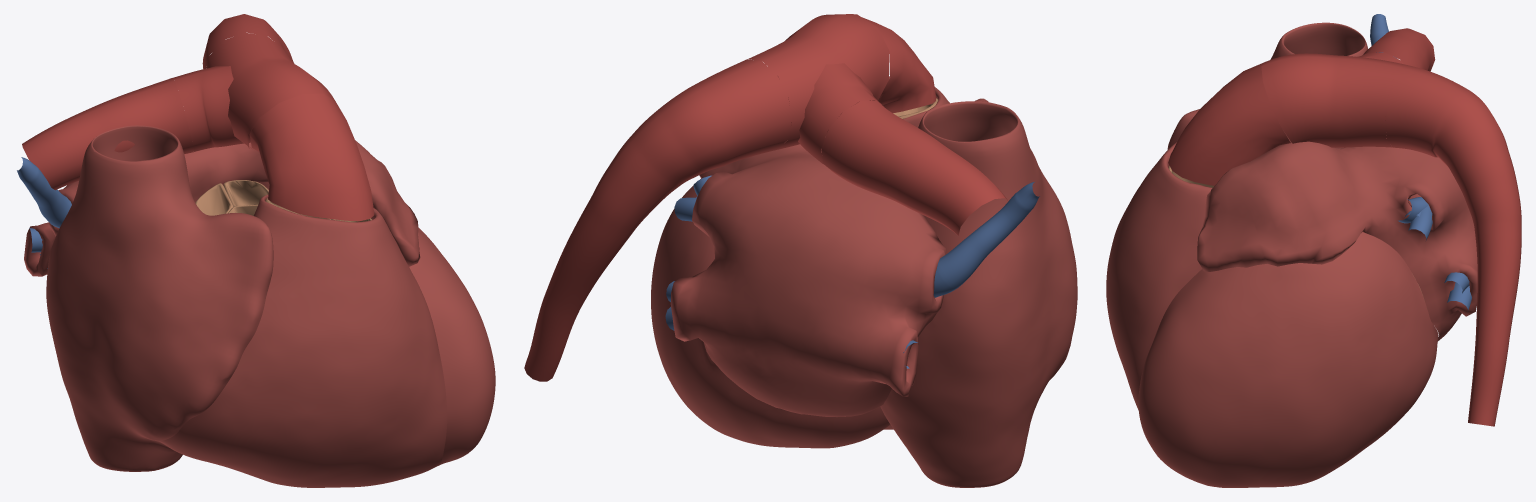
Rendered from heart.glb.
3 renders of one model, left to right at view 1: azimuth 30°, elevation 25°; view 2: azimuth 150°, elevation 25°; view 3: azimuth 270°, elevation 25°, orthographic. The views are drawn at different scales.
Visible parts, largest first — view 1: right-atrium, right-ventricle, real-pulmonary-arteries-pulmonary-trunk, real-pulmonary-arteries-bifurcation-of-pulmonary-trunk, left-ventricle, real-pulmonary-arteries-right-pulmonary-artery, left-atrium, real-pulmonary-veins-right-superior-pulmonary-vein, real-pulmonary-arteries-left-pulmonary-artery, real-cardiac-internal-structures-left-coronary-leaflet, real-cardiac-internal-structures-non-coronary-leaflet; view 2: left-atrium, right-atrium, real-pulmonary-arteries-left-pulmonary-artery, left-ventricle, real-pulmonary-arteries-right-pulmonary-artery, real-pulmonary-arteries-bifurcation-of-pulmonary-trunk, real-pulmonary-veins-right-superior-pulmonary-vein, real-pulmonary-arteries-pulmonary-trunk; view 3: left-ventricle, left-atrium, real-pulmonary-arteries-left-pulmonary-artery, right-ventricle, real-pulmonary-arteries-bifurcation-of-pulmonary-trunk, real-pulmonary-arteries-pulmonary-trunk, right-atrium, real-pulmonary-arteries-right-pulmonary-artery, real-pulmonary-veins-left-superior-pulmonary-vein, real-pulmonary-veins-left-inferior-pulmonary-vein.
Boxes of the visible parts, x1,y1,x2,y2 form: right-atrium: (46, 125, 273, 471); right-ventricle: (160, 194, 447, 487); real-pulmonary-arteries-pulmonary-trunk: (249, 93, 374, 221); real-pulmonary-arteries-bifurcation-of-pulmonary-trunk: (173, 33, 335, 151); left-ventricle: (261, 183, 495, 465); real-pulmonary-arteries-right-pulmonary-artery: (22, 78, 193, 190); left-atrium: (24, 140, 420, 276); real-pulmonary-veins-right-superior-pulmonary-vein: (17, 157, 71, 228); real-pulmonary-arteries-left-pulmonary-artery: (202, 14, 293, 68); real-cardiac-internal-structures-left-coronary-leaflet: (223, 180, 268, 206); real-cardiac-internal-structures-non-coronary-leaflet: (195, 183, 233, 215); left-atrium: (670, 140, 945, 416); right-atrium: (880, 98, 1077, 487); real-pulmonary-arteries-left-pulmonary-artery: (524, 59, 791, 381); left-ventricle: (651, 178, 890, 448); real-pulmonary-arteries-right-pulmonary-artery: (821, 100, 1008, 235); real-pulmonary-arteries-bifurcation-of-pulmonary-trunk: (748, 14, 889, 163); real-pulmonary-veins-right-superior-pulmonary-vein: (933, 182, 1039, 297); real-pulmonary-arteries-pulmonary-trunk: (862, 17, 936, 113); left-ventricle: (1138, 232, 1438, 487); left-atrium: (1197, 135, 1477, 341); real-pulmonary-arteries-left-pulmonary-artery: (1385, 65, 1521, 426); right-ventricle: (1106, 142, 1212, 409); real-pulmonary-arteries-bifurcation-of-pulmonary-trunk: (1261, 52, 1406, 147); real-pulmonary-arteries-pulmonary-trunk: (1168, 62, 1290, 185); right-atrium: (1167, 22, 1367, 232); real-pulmonary-arteries-right-pulmonary-artery: (1363, 28, 1435, 71); real-pulmonary-veins-left-superior-pulmonary-vein: (1398, 197, 1432, 240); real-pulmonary-veins-left-inferior-pulmonary-vein: (1444, 272, 1471, 310).
Bounding box in the file's own units: 0.135 × 0.1234 × 0.121.
